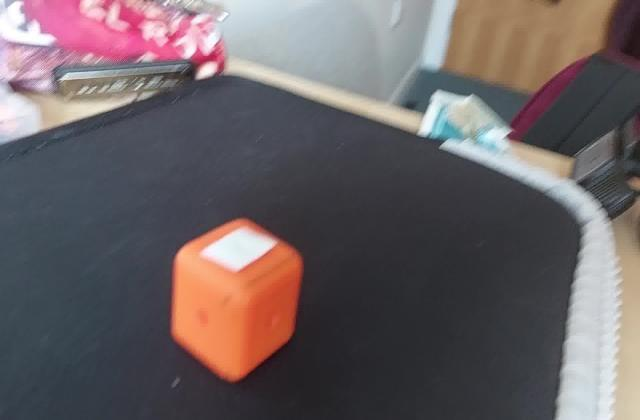cube: (167, 212, 304, 384)
white: (204, 235, 268, 276)
